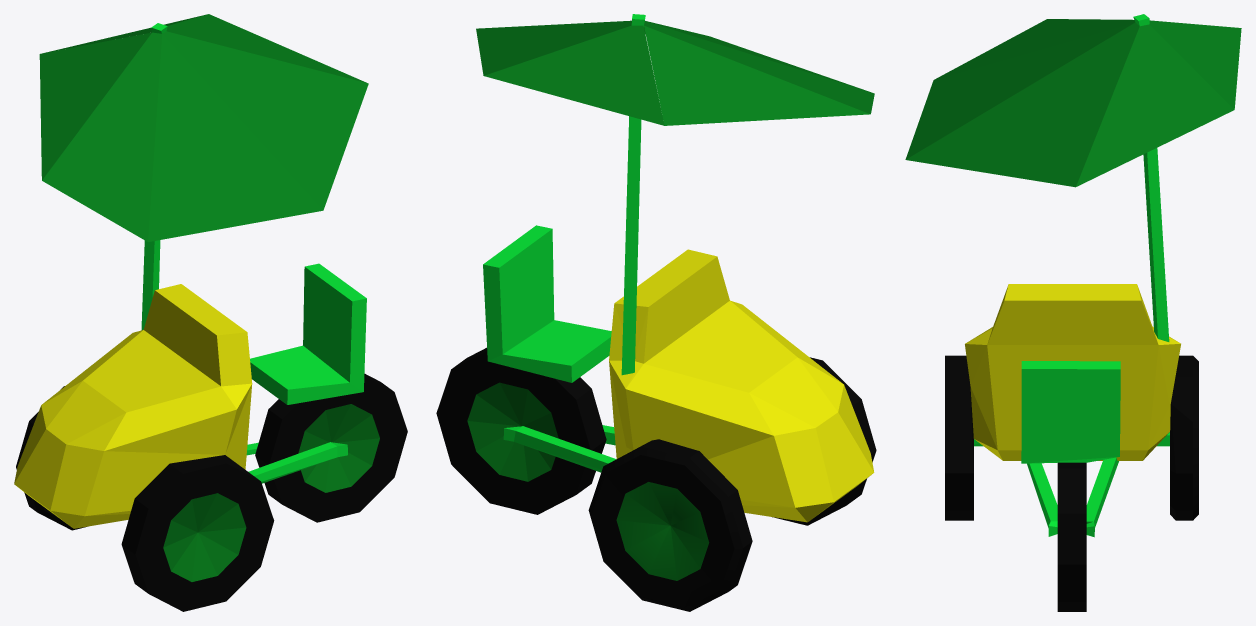
File: CarritodeHelados.fbx
3 views of the same model, side by side, from view 1: azimuth 30°, elevation 25°; view 2: azimuth 150°, elevation 25°; view 3: azimuth 270°, elevation 25° (orthographic). The views are drawn at different scales.
Parts seen in each view (by area): view 1: carrito_d_helado:polySurface6; view 2: carrito_d_helado:polySurface6; view 3: carrito_d_helado:polySurface6.
Boxes of the visible parts, left/top/right/bottom form: carrito_d_helado:polySurface6: left=14, top=14, right=407, bottom=611; carrito_d_helado:polySurface6: left=436, top=14, right=876, bottom=611; carrito_d_helado:polySurface6: left=905, top=14, right=1241, bottom=611.
Size of the model in its own units: 4225 by 5431 by 3196.
